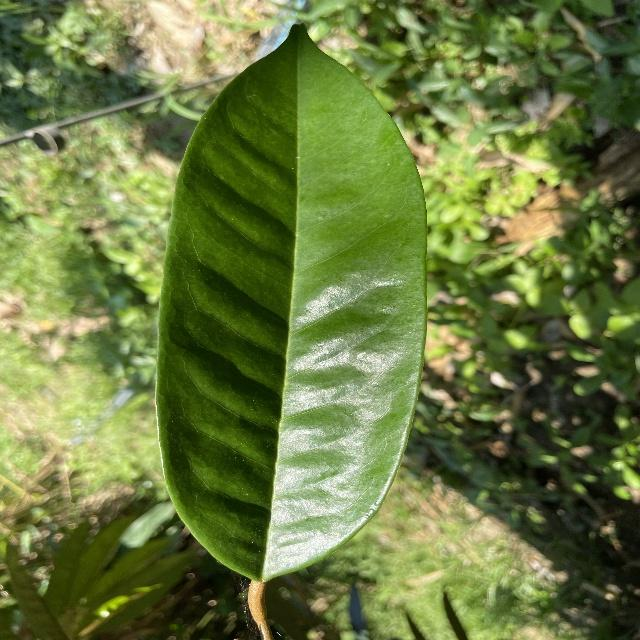No Disease: (142, 19, 449, 587)
